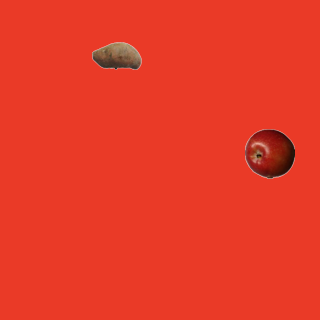Apple Braeburn: (244, 128, 294, 178)
Potato Sweet: (91, 30, 141, 80)
